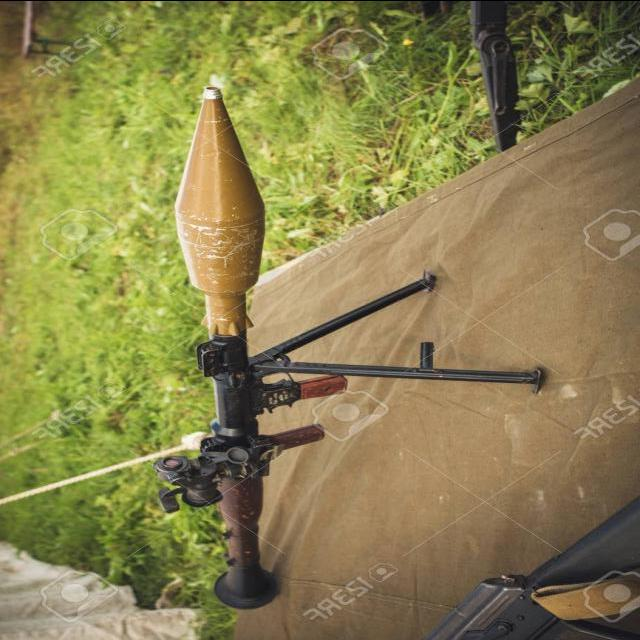rocket launcher: (157, 72, 540, 617)
scope: (153, 454, 225, 518)
